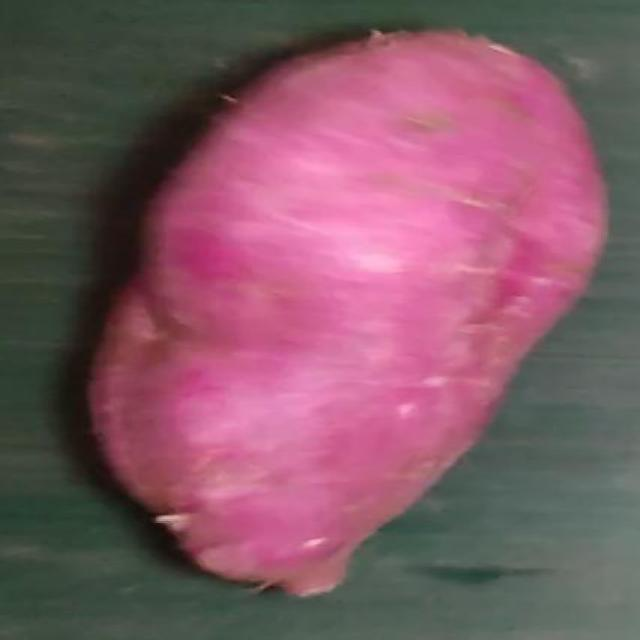Sweet Potato: (86, 29, 610, 600)
